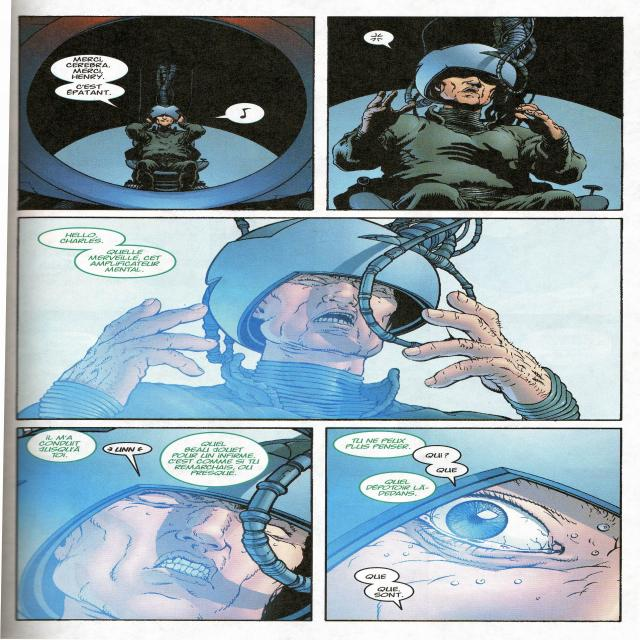comic_panel: (15, 216, 623, 422), (324, 426, 621, 622), (18, 15, 315, 210), (16, 427, 313, 621), (328, 17, 622, 212)
